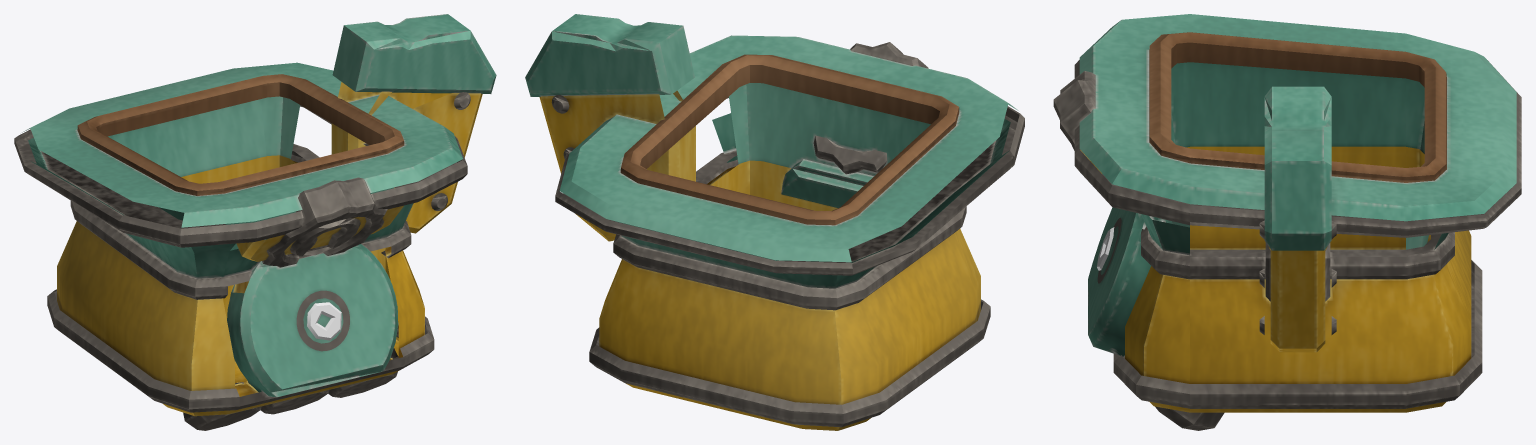
File: Nuggetfist Knuckles.fbx
3 views of the same model, side by side, from view 1: azimuth 30°, elevation 25°; view 2: azimuth 150°, elevation 25°; view 3: azimuth 270°, elevation 25° (orthographic). The views are drawn at different scales.
Visible parts, largest first — view 1: Nuggetfist Knuckles_Body, Nuggetfist Knuckles_Glow; view 2: Nuggetfist Knuckles_Body; view 3: Nuggetfist Knuckles_Body.
Part boxes in pixels (<box>): Nuggetfist Knuckles_Body: <box>14,14,496,430</box>; Nuggetfist Knuckles_Glow: <box>307,302,341,340</box>; Nuggetfist Knuckles_Body: <box>525,14,1024,430</box>; Nuggetfist Knuckles_Body: <box>1053,14,1521,430</box>.
Bounding box in the file's own units: 2.2 × 1.62 × 1.89.
